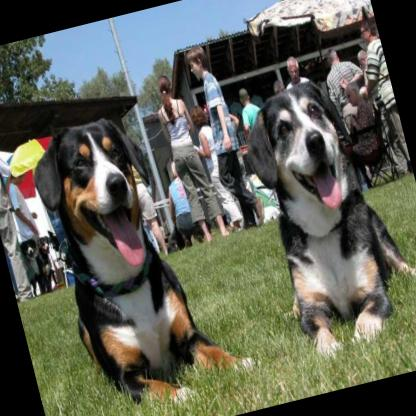EntleBucher: (21, 91, 263, 416), (233, 68, 416, 360)
